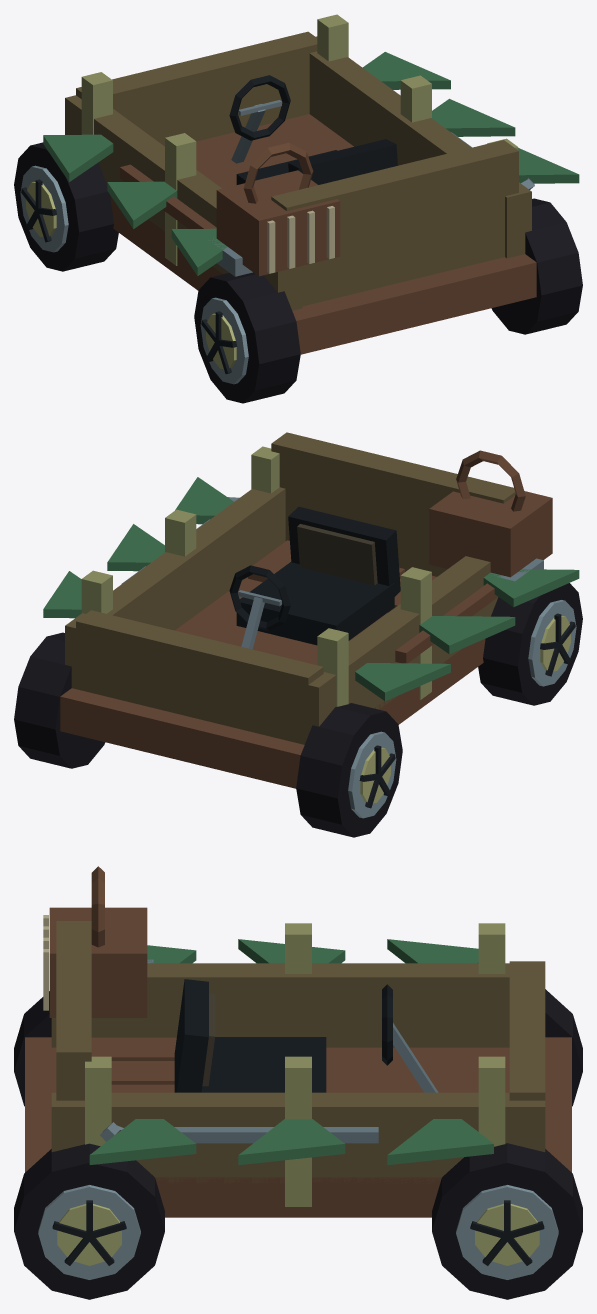
File: kart.glb
3 renders of one model, top to bottom at view 1: azimuth 30°, elevation 25°; view 2: azimuth 150°, elevation 25°; view 3: azimuth 270°, elevation 25°, orthographic. The views are drawn at different scales.
Parts seen in each view (by area): view 1: identity-wagon-wagon-timber-coach, wheel-rear-left, identity-wagon-motif-leaves, identity-wagon-motif-basket, wheel-front-left, wheel-rear-right, identity-wagon-driver-cockpit, identity-wagon-motif-tools; view 2: identity-wagon-wagon-timber-coach, identity-wagon-driver-cockpit, identity-wagon-motif-leaves, wheel-front-left, identity-wagon-motif-basket, wheel-rear-left, wheel-front-right, identity-wagon-motif-tools; view 3: identity-wagon-wagon-timber-coach, wheel-front-right, wheel-rear-right, identity-wagon-motif-leaves, identity-wagon-driver-cockpit, identity-wagon-motif-basket, identity-wagon-motif-tools, wheel-front-left, wheel-rear-left.
Boxes of the visible parts, left/top/right/bottom form: identity-wagon-wagon-timber-coach: left=65, top=14, right=536, bottom=354; wheel-rear-left: left=194, top=272, right=300, bottom=403; identity-wagon-motif-leaves: left=43, top=52, right=579, bottom=275; identity-wagon-motif-basket: left=216, top=142, right=340, bottom=276; wheel-front-left: left=14, top=142, right=118, bottom=271; wheel-rear-right: left=491, top=198, right=582, bottom=334; identity-wagon-driver-cockpit: left=229, top=75, right=397, bottom=184; identity-wagon-motif-tools: left=120, top=132, right=534, bottom=276; identity-wagon-wagon-timber-coach: left=60, top=432, right=515, bottom=788; identity-wagon-driver-cockpit: left=229, top=506, right=400, bottom=649; identity-wagon-motif-leaves: left=43, top=477, right=579, bottom=701; wheel-front-left: left=296, top=703, right=402, bottom=837; identity-wagon-motif-basket: left=429, top=450, right=552, bottom=577; wheel-rear-left: left=478, top=583, right=582, bottom=705; wheel-front-right: left=14, top=632, right=105, bottom=768; identity-wagon-motif-tools: left=122, top=497, right=543, bottom=663; identity-wagon-wagon-timber-coach: left=25, top=921, right=571, bottom=1217; wheel-front-right: left=432, top=1143, right=582, bottom=1299; wheel-rear-right: left=14, top=1143, right=164, bottom=1299; identity-wagon-motif-leaves: left=89, top=939, right=493, bottom=1165; identity-wagon-driver-cockpit: left=174, top=979, right=438, bottom=1092; identity-wagon-motif-basket: left=43, top=866, right=147, bottom=1017; identity-wagon-motif-tools: left=100, top=959, right=378, bottom=1143; wheel-front-left: left=545, top=989, right=582, bottom=1106; wheel-rear-left: left=14, top=991, right=51, bottom=1106.
Bounding box in the file's own units: 2.3 × 1.37 × 2.56.
